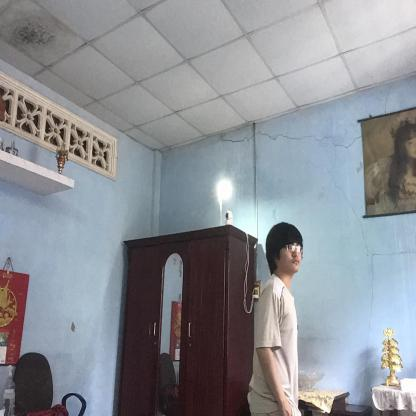person: (246, 221, 308, 416)
